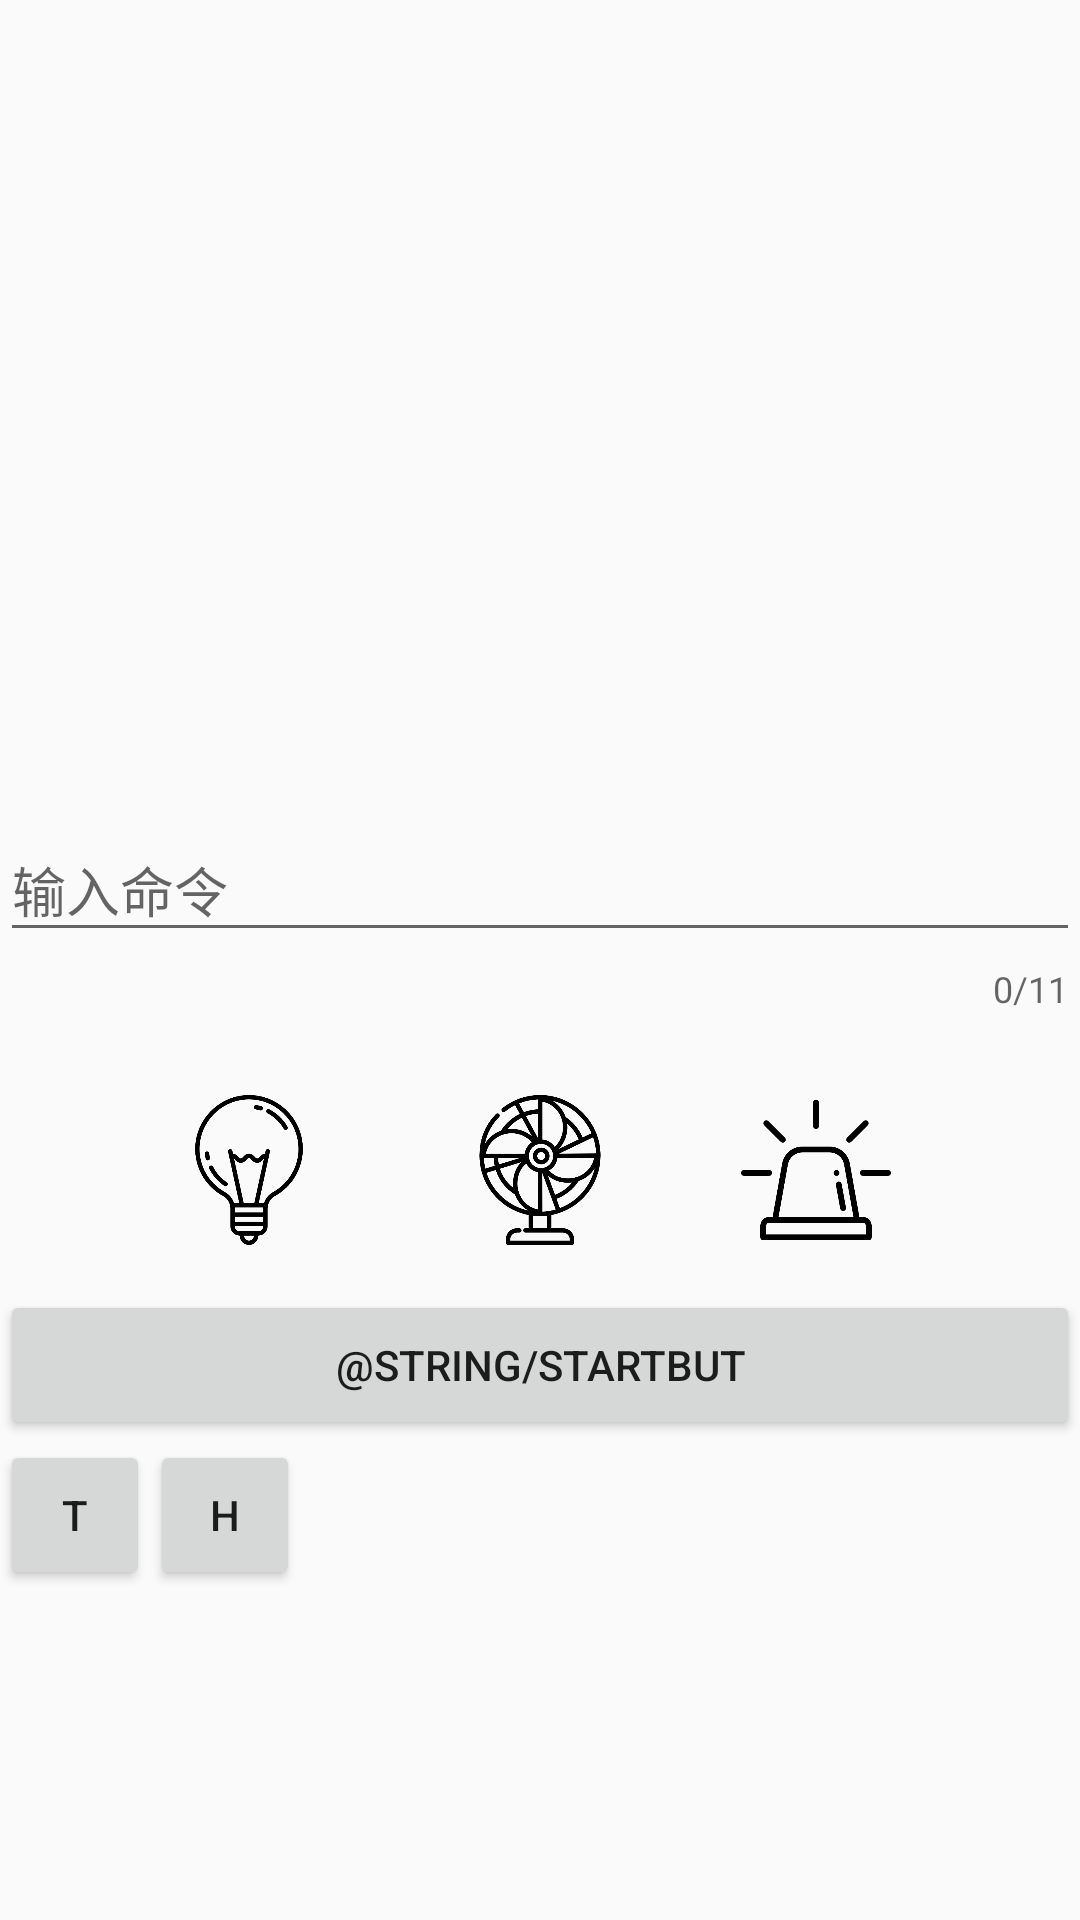

Icon bounding boxes for this 1080×1920 phone screenshot, format (left=x1, top=y1, right=x2, bottom=y2):
alarm off: (left=741, top=1100, right=891, bottom=1240)
fan off: (left=479, top=1095, right=601, bottom=1245)
off: (left=195, top=1095, right=303, bottom=1245)
